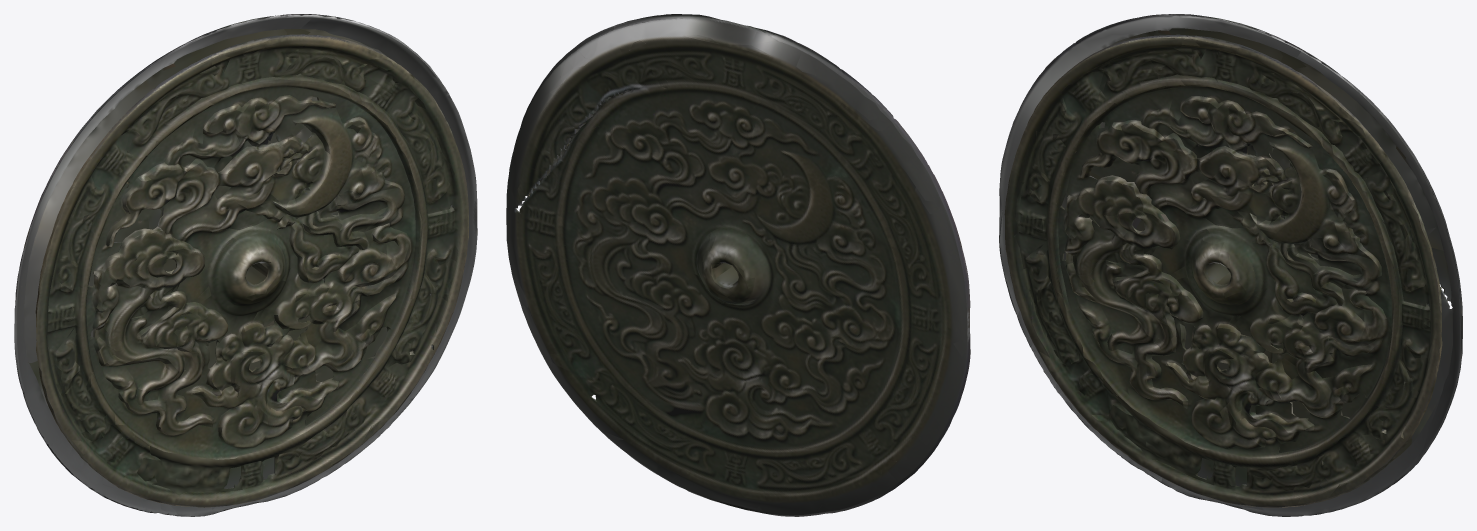
File: jing.glb
3 views of the same model, side by side, from view 1: azimuth 30°, elevation 25°; view 2: azimuth 150°, elevation 25°; view 3: azimuth 330°, elevation 25° (orthographic).
Visible parts, largest first — view 1: geometry_0; view 2: geometry_0; view 3: geometry_0.
Part boxes in pixels (bbox=[...]): geometry_0: bbox=[14, 14, 477, 516]; geometry_0: bbox=[506, 14, 970, 516]; geometry_0: bbox=[999, 14, 1462, 516].
Bounding box in the file's own units: 0.15 × 0.1499 × 0.0158.
1 material, 1 textured.
